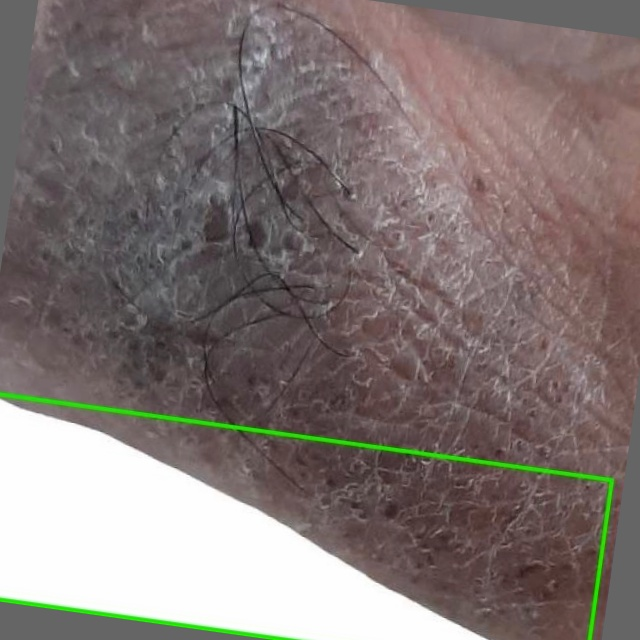Eczema: (0, 395, 613, 639)
